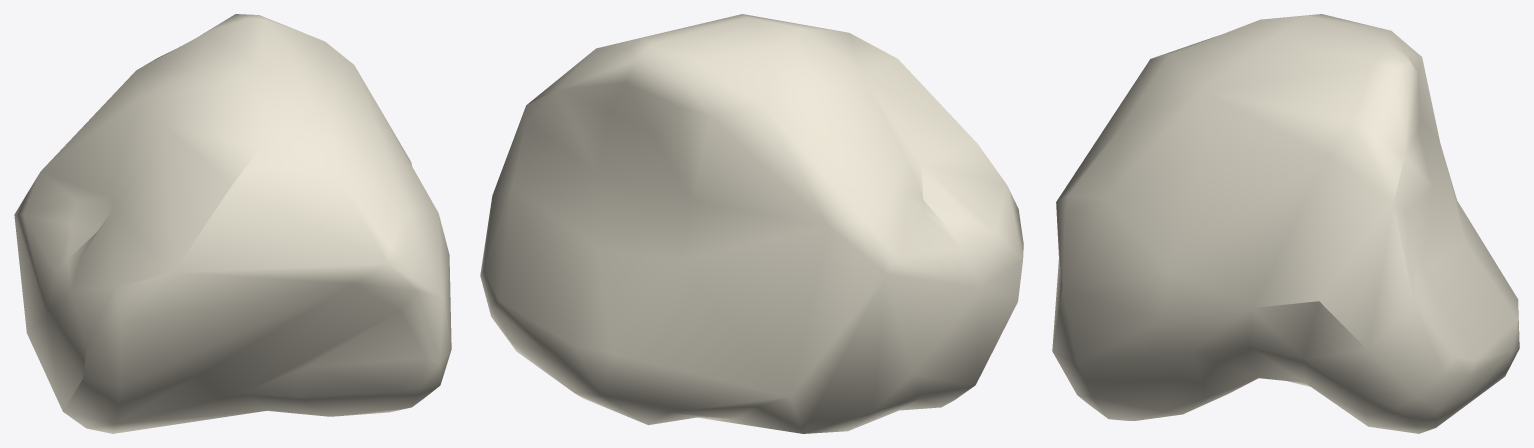
File: fma230986.glb
The picture shows the model from 3 angles, left to right: view 1: azimuth 30°, elevation 25°; view 2: azimuth 150°, elevation 25°; view 3: azimuth 270°, elevation 25°; orthographic projection. The views are drawn at different scales.
Parts seen in each view (by area): view 1: FMA230986; view 2: FMA230986; view 3: FMA230986.
Boxes of the visible parts, bbox=[...] form: FMA230986: bbox=[14, 14, 451, 433]; FMA230986: bbox=[480, 14, 1023, 433]; FMA230986: bbox=[1052, 14, 1519, 433].
Bounding box in the file's own units: 0.00832 × 0.00639 × 0.0076.
